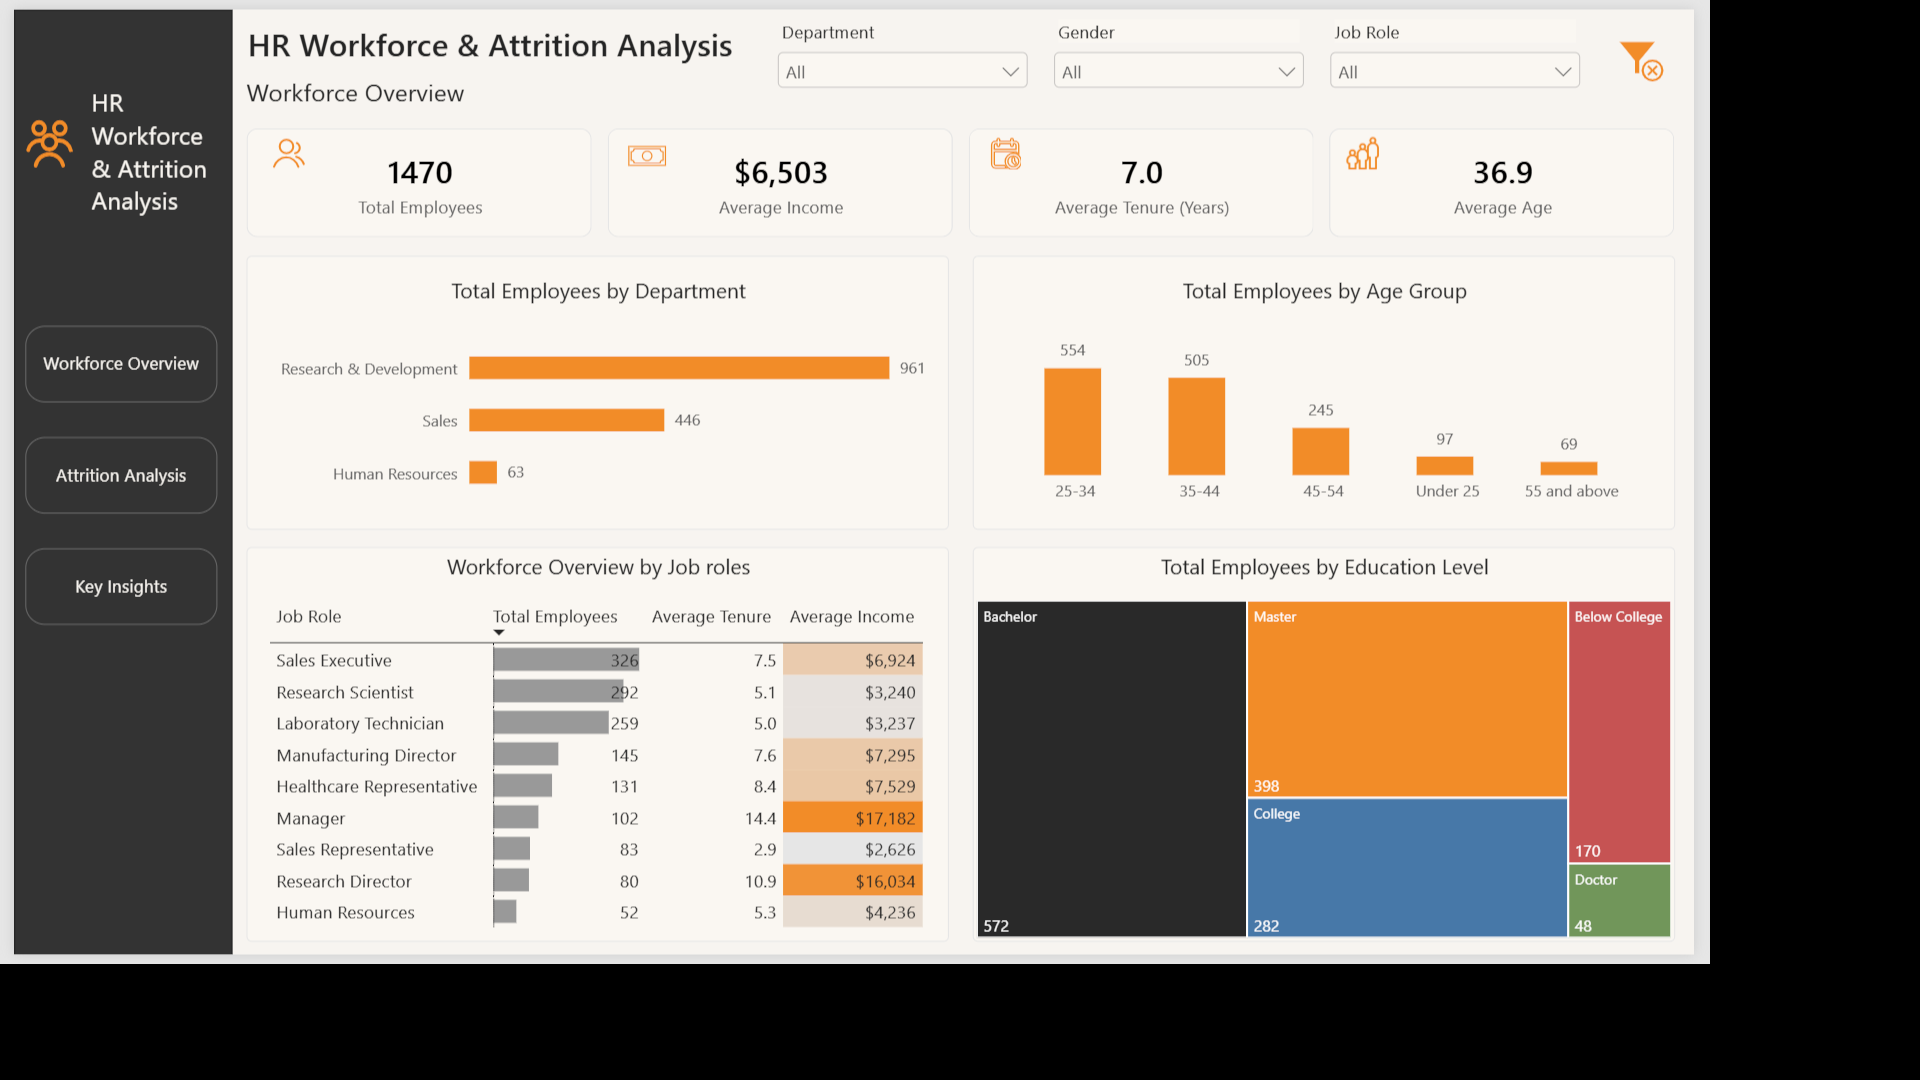

What the dashboard file says about the page in this screenshot:
{"tool":"powerbi","page":{"name":"Workforce Overview","canvas":[1280,720],"ordinal":0},"visuals":[{"type":"shape","box":[0,0,166.6,1079.9],"z":0,"group":"g1"},{"type":"textbox","box":[177.8,10,388.9,40],"z":0},{"type":"cardVisual","fields":{"Data":["MeasuresTable.Headcount","MeasuresTable.Average Income","MeasuresTable.Average Tenure","MeasuresTable.Average Age"]},"box":[177,90,1088,83],"z":1000},{"type":"textbox","box":[177,50,207,29.7],"z":2000},{"type":"clusteredBarChart","title":"Total Employees by Department","fields":{"Category":["WA_Fn-UseC_-HR-Employee-Attrition.Department"],"Y":["MeasuresTable.Headcount"]},"box":[177.3,187.6,535,209.1],"z":3000},{"type":"treemap","fields":{"Group":["WA_Fn-UseC_-HR-Employee-Attrition.EducationLevel"],"Values":["MeasuresTable.Total Employees"]},"box":[730.1,409.9,535,300.5],"z":4000},{"type":"clusteredColumnChart","fields":{"Category":["WA_Fn-UseC_-HR-Employee-Attrition.AgeGroup"],"Y":["MeasuresTable.Total Employees"]},"box":[730,188,535,209],"z":5000},{"type":"tableEx","title":"Workforce Overview by Job roles","fields":{"Values":["WA_Fn-UseC_-HR-Employee-Attrition.JobRole","MeasuresTable.Total Employees","MeasuresTable.Average Tenure","MeasuresTable.Average Income"]},"box":[177.3,409.9,535,300.5],"z":6000},{"type":"slicer","fields":{"Values":["WA_Fn-UseC_-HR-Employee-Attrition.Department"]},"box":[577.4,8,200,58.9],"z":7000},{"type":"slicer","fields":{"Values":["WA_Fn-UseC_-HR-Employee-Attrition.Gender"]},"box":[787.7,8,200,58.9],"z":8000},{"type":"slicer","fields":{"Values":["WA_Fn-UseC_-HR-Employee-Attrition.JobRole"]},"box":[998,8,200,58.9],"z":9000},{"type":"image","title":"Remove Filter","box":[1215,18,50,40],"z":10000},{"type":"group","id":"g1","title":"Group 1","box":[0,0,166.6,1079.9],"z":11000},{"type":"textbox","box":[59,58,96.3,102.5],"z":12000,"group":"g1"},{"type":"image","box":[1005,97,45,25],"z":12000},{"type":"image","box":[9,72,37,60],"z":13000,"group":"g1"},{"type":"image","box":[732.3,97,45,25],"z":13000},{"type":"image","box":[460,97,45,29],"z":14000},{"type":"actionButton","box":[9,241,146.6,58.4],"z":14000,"group":"g1"},{"type":"image","box":[187,97,45,25],"z":15000},{"type":"actionButton","box":[9,325.5,146.6,58.4],"z":15000,"group":"g1"},{"type":"actionButton","box":[9,410,146.6,58.4],"z":17000,"group":"g1"}]}

Visuals, with their boxes on the page's 1280x720 design canvas (x1, y1, x2, y2). These are canvas units, not pixel positions in the 1920x1080 screenshot, which may show the page scaled, cropped or inside an application window:
shape: x1=0, y1=0, x2=167, y2=1080
textbox: x1=178, y1=10, x2=567, y2=50
cardVisual - MeasuresTable.Headcount x MeasuresTable.Average Income: x1=177, y1=90, x2=1265, y2=173
textbox: x1=177, y1=50, x2=384, y2=80
"Total Employees by Department" clusteredBarChart: x1=177, y1=188, x2=712, y2=397
treemap - WA_Fn-UseC_-HR-Employee-Attrition.EducationLevel x MeasuresTable.Total Employees: x1=730, y1=410, x2=1265, y2=710
clusteredColumnChart - WA_Fn-UseC_-HR-Employee-Attrition.AgeGroup x MeasuresTable.Total Employees: x1=730, y1=188, x2=1265, y2=397
"Workforce Overview by Job roles" tableEx: x1=177, y1=410, x2=712, y2=710
slicer - WA_Fn-UseC_-HR-Employee-Attrition.Department: x1=577, y1=8, x2=777, y2=67
slicer - WA_Fn-UseC_-HR-Employee-Attrition.Gender: x1=788, y1=8, x2=988, y2=67
slicer - WA_Fn-UseC_-HR-Employee-Attrition.JobRole: x1=998, y1=8, x2=1198, y2=67
"Remove Filter" image: x1=1215, y1=18, x2=1265, y2=58
"Group 1" group: x1=0, y1=0, x2=167, y2=1080
textbox: x1=59, y1=58, x2=155, y2=160
image: x1=1005, y1=97, x2=1050, y2=122
image: x1=9, y1=72, x2=46, y2=132
image: x1=732, y1=97, x2=777, y2=122
image: x1=460, y1=97, x2=505, y2=126
actionButton: x1=9, y1=241, x2=156, y2=299
image: x1=187, y1=97, x2=232, y2=122
actionButton: x1=9, y1=326, x2=156, y2=384
actionButton: x1=9, y1=410, x2=156, y2=468
